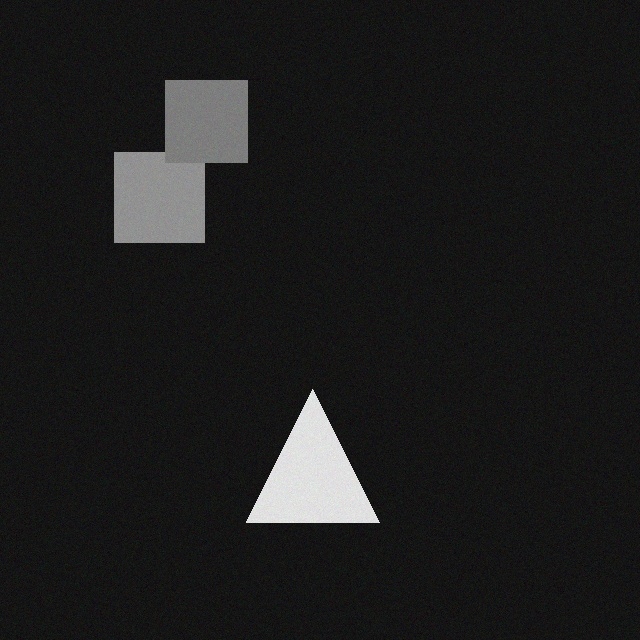square: (105, 149, 195, 239), (156, 77, 238, 159)
triangle: (237, 386, 370, 519)
